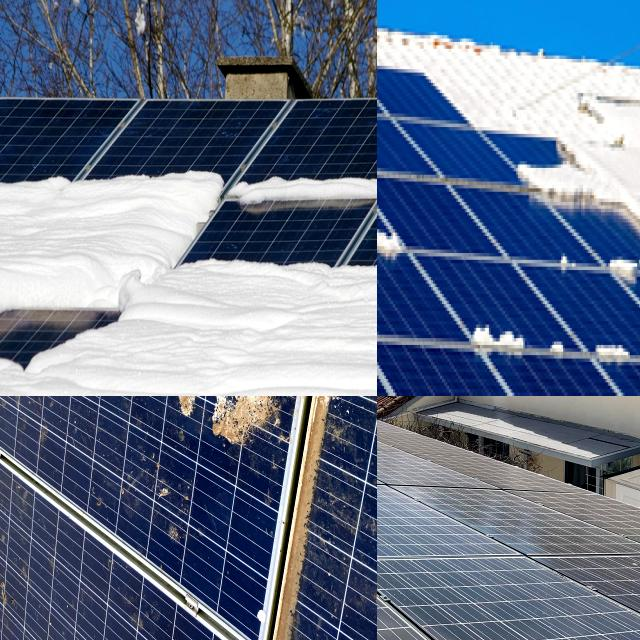bird: (205, 396, 331, 494), (143, 396, 261, 495), (0, 559, 71, 640), (269, 396, 324, 488), (116, 589, 200, 640), (54, 396, 140, 445), (249, 576, 303, 640), (150, 396, 231, 427)
dust: (492, 576, 640, 640)
panel: (0, 143, 219, 318), (228, 235, 377, 373), (429, 38, 559, 139), (230, 150, 377, 221), (0, 311, 106, 396), (463, 315, 628, 364), (568, 56, 640, 168), (595, 185, 640, 324), (377, 199, 409, 337), (377, 55, 430, 133), (515, 147, 568, 205), (377, 201, 418, 271), (377, 290, 415, 357), (377, 43, 400, 153)
